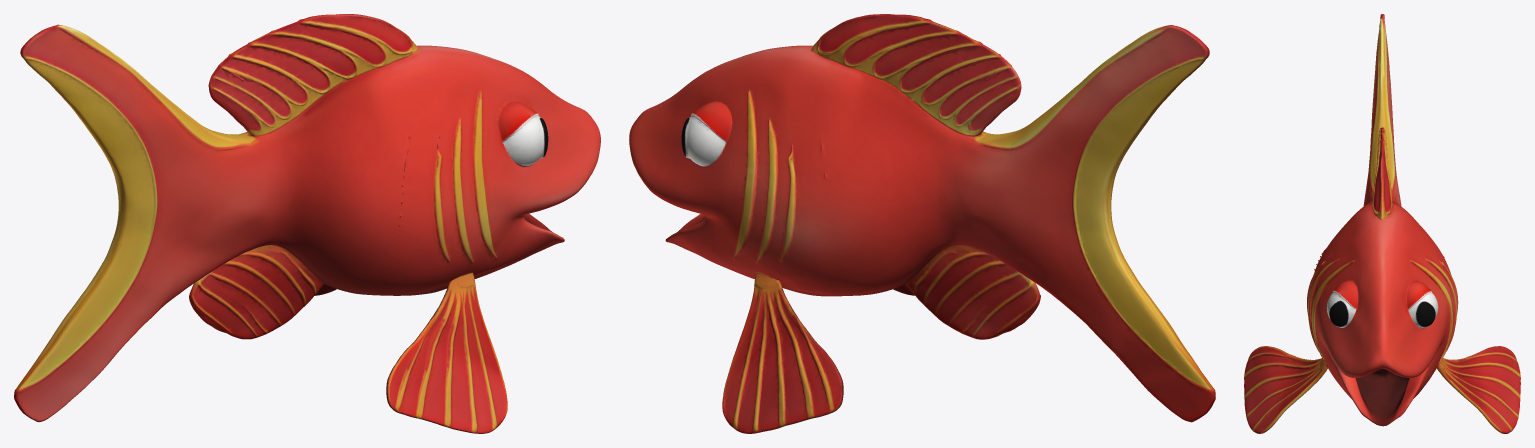
Rendered from mascote-vermelho-anim.glb.
3 renders of one model, left to right at view 1: azimuth 30°, elevation 25°; view 2: azimuth 150°, elevation 25°; view 3: azimuth 270°, elevation 25°, orthographic. The views are drawn at different scales.
Parts seen in each view (by area): view 1: tripo_node_35dc258d-951a-474b-926f-9d706c4a2bd3; view 2: tripo_node_35dc258d-951a-474b-926f-9d706c4a2bd3; view 3: tripo_node_35dc258d-951a-474b-926f-9d706c4a2bd3.
Part boxes in pixels (x1=…): tripo_node_35dc258d-951a-474b-926f-9d706c4a2bd3: x1=14, y1=14, x2=600, y2=433; tripo_node_35dc258d-951a-474b-926f-9d706c4a2bd3: x1=629, y1=14, x2=1215, y2=433; tripo_node_35dc258d-951a-474b-926f-9d706c4a2bd3: x1=1244, y1=14, x2=1520, y2=433.
Bounding box in the file's own units: 1 × 0.6948 × 0.5889.
Materials: 1 (1 with a texture image).
